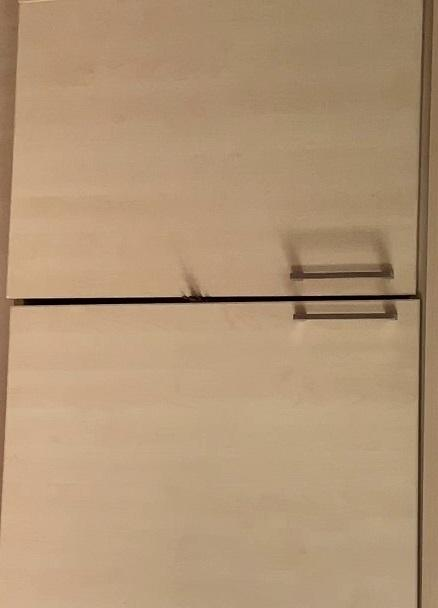cabinet_door: (7, 308, 420, 608), (13, 0, 422, 297)
handle: (289, 256, 399, 288), (292, 306, 401, 333)
